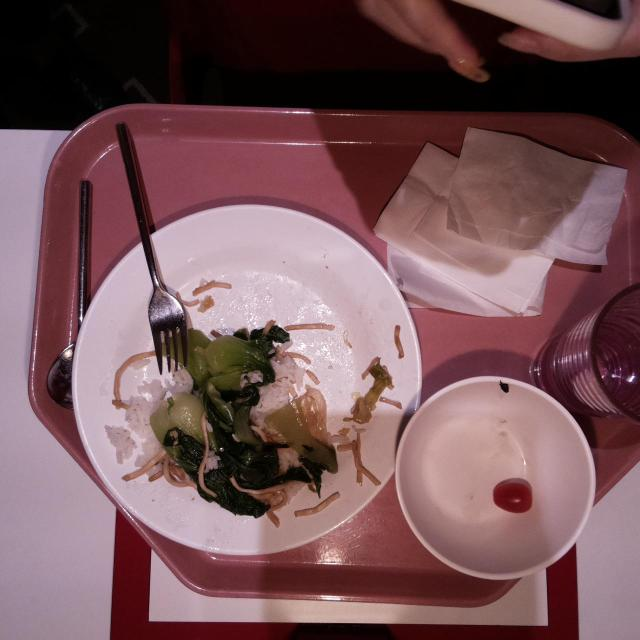Rice: (110, 365, 192, 461), (238, 354, 302, 426)
Tomato: (492, 477, 534, 515)
Vegetable: (176, 318, 286, 524)
